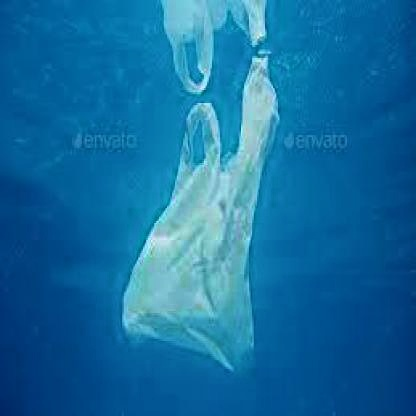pbag: (121, 54, 282, 375)
